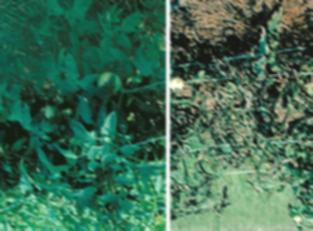Tomato leaf bacterial spot: (99, 106, 122, 142), (61, 50, 85, 84), (35, 143, 56, 180), (73, 181, 96, 207), (12, 99, 32, 126)
